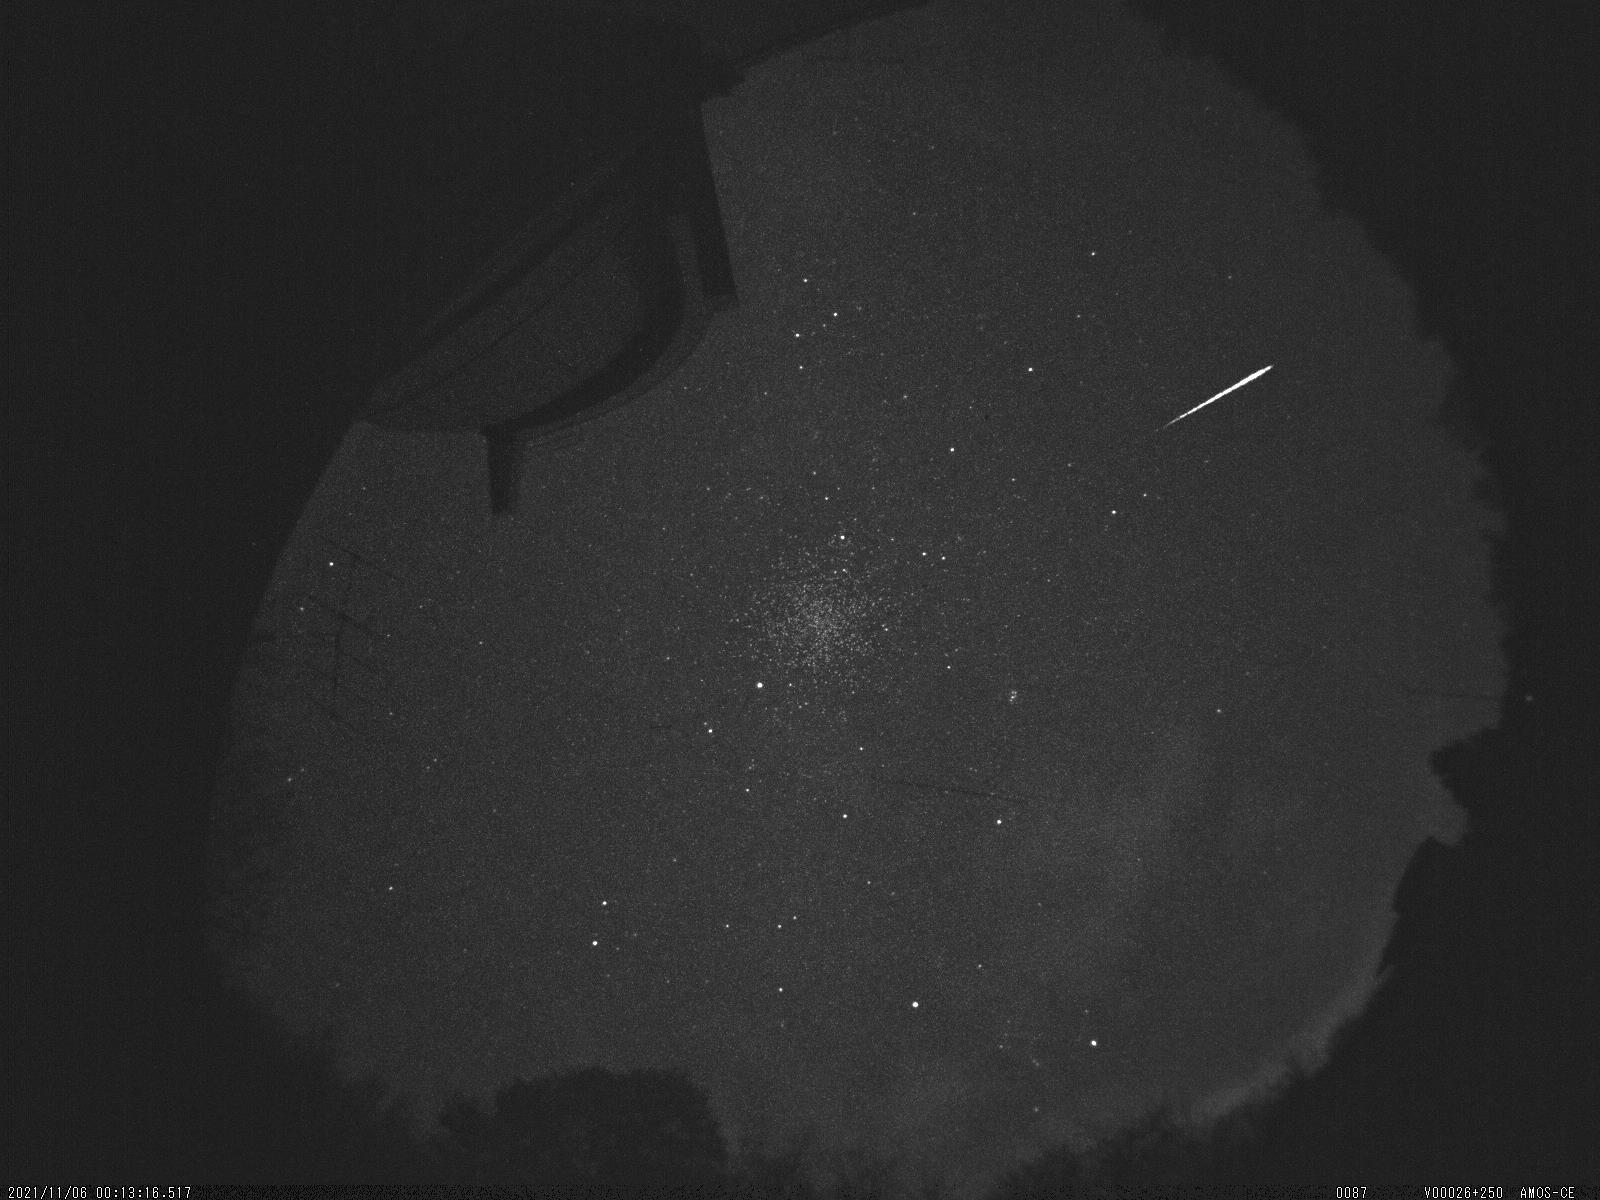Meteor: (1145, 354, 1287, 450)
